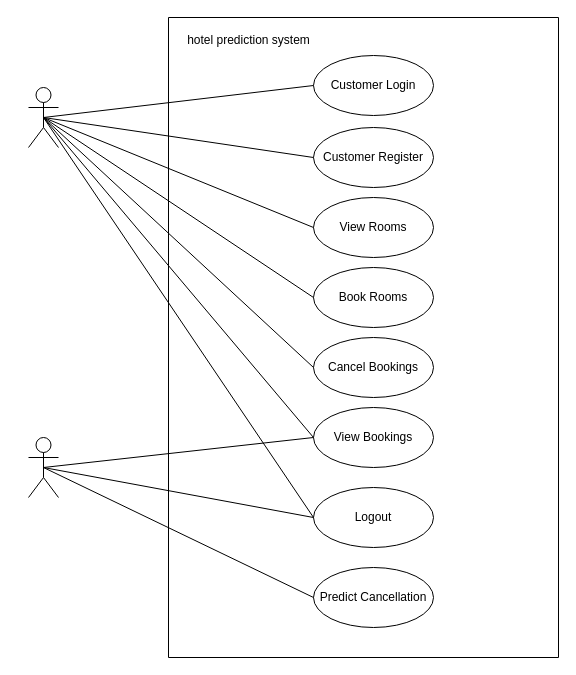
Some shapes in this 576 by 675 pixel diagram are drawn without their labels. The shapes that lost their labels are listed below. From the top down, each one's centre as x and y in pixels, then its label:
At [43,117]: "Customer".
At [43,467]: "Employee".
